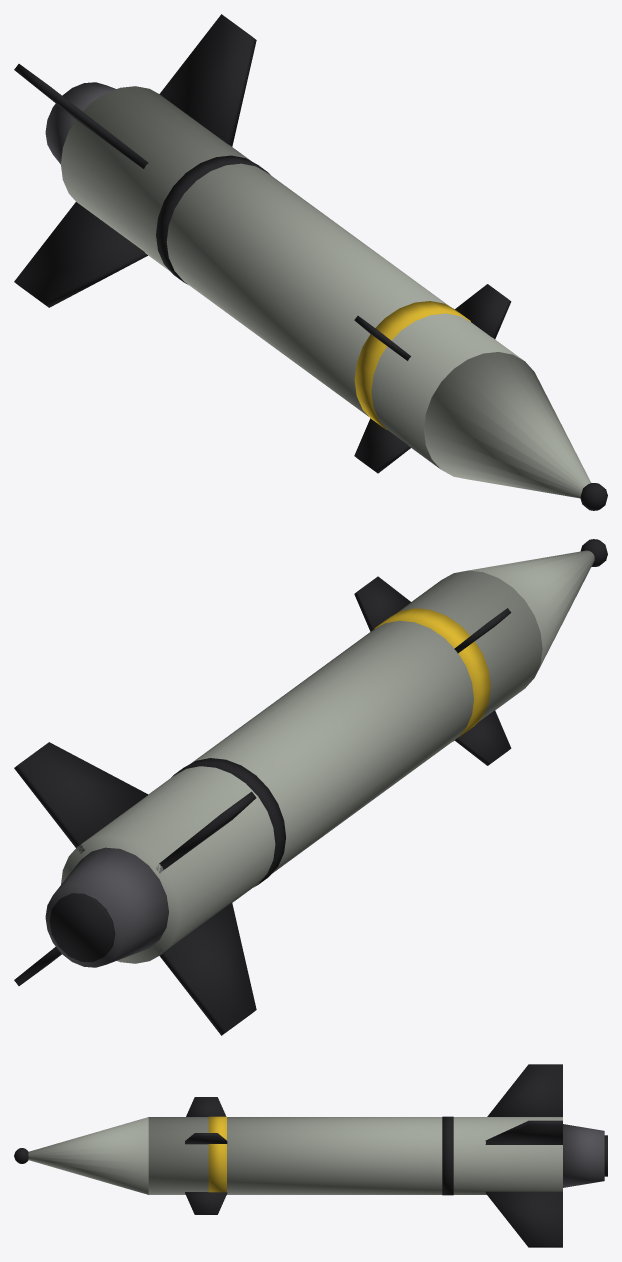
Rendered from predator_missile.obj.
3 views of the same model, one above another, from view 1: azimuth 30°, elevation 25°; view 2: azimuth 150°, elevation 25°; view 3: azimuth 270°, elevation 25° (orthographic). The views are drawn at different scales.
Size of the model in its own units: 0.6081 by 0.6081 by 2.58.
